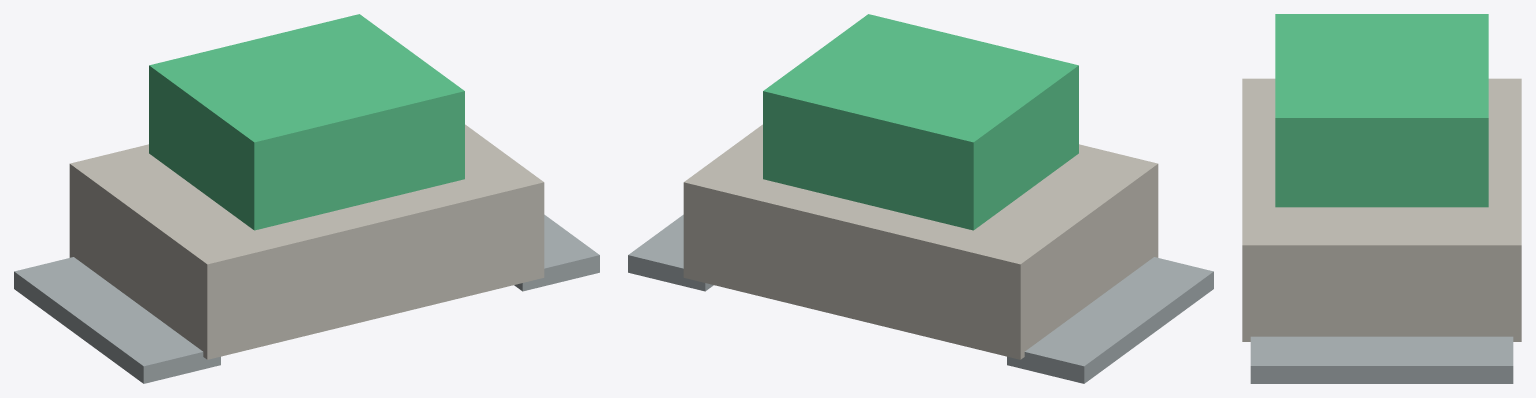
File: 48_L97_LED1_LED.glb
3 renders of one model, left to right at view 1: azimuth 30°, elevation 25°; view 2: azimuth 150°, elevation 25°; view 3: azimuth 270°, elevation 25°, orthographic.
Parts seen in each view (by area): view 1: LED1_base_0, LED1_lens_1, LED1_pad_2, LED1_pad_3; view 2: LED1_base_0, LED1_lens_1, LED1_pad_2, LED1_pad_3; view 3: LED1_base_0, LED1_lens_1, LED1_pad_3.
Boxes of the visible parts, x1=… form: LED1_base_0: x1=69, y1=124, x2=544, y2=359; LED1_lens_1: x1=149, y1=14, x2=464, y2=230; LED1_pad_2: x1=14, y1=257, x2=220, y2=383; LED1_pad_3: x1=514, y1=214, x2=599, y2=291; LED1_base_0: x1=683, y1=124, x2=1158, y2=359; LED1_lens_1: x1=763, y1=14, x2=1078, y2=230; LED1_pad_2: x1=1007, y1=257, x2=1213, y2=383; LED1_pad_3: x1=628, y1=214, x2=713, y2=291; LED1_base_0: x1=1242, y1=78, x2=1521, y2=341; LED1_lens_1: x1=1275, y1=14, x2=1488, y2=207; LED1_pad_3: x1=1250, y1=336, x2=1513, y2=383.
Bounding box in the file's own units: 0.00325 × 0.00138 × 0.0017.
